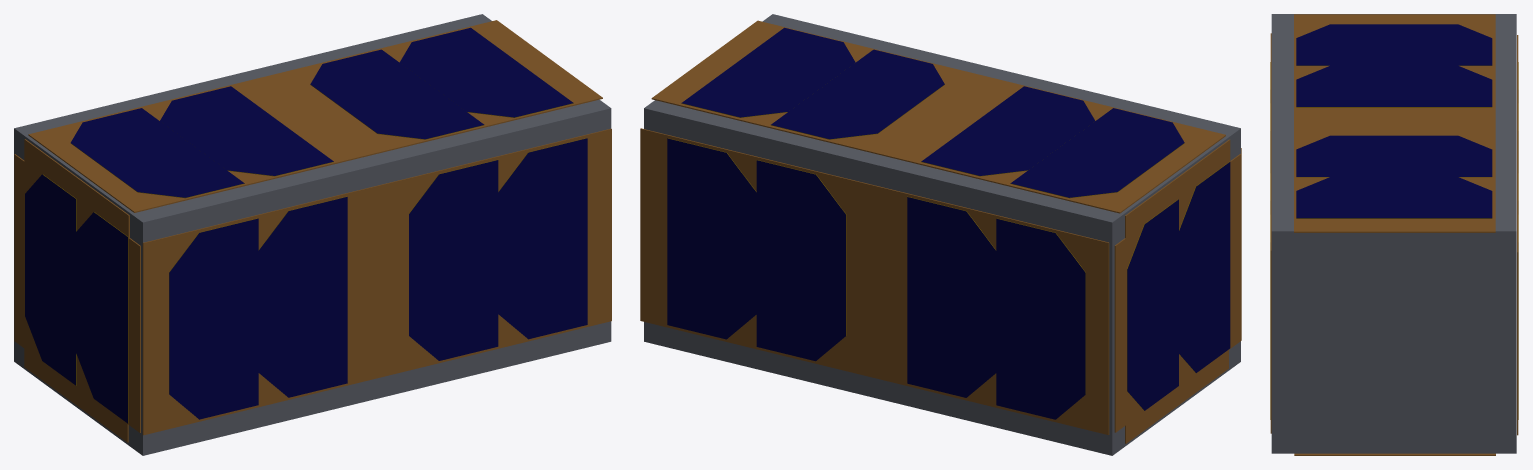
Rendered from cubesat_2u.dae.
3 views of the same model, side by side, from view 1: azimuth 30°, elevation 25°; view 2: azimuth 150°, elevation 25°; view 3: azimuth 270°, elevation 25° (orthographic). The views are drawn at different scales.
Parts seen in each view (by area): view 1: Minus-Y-Cells, Plus-Z-Cells, Cubesat_2U, Minus-Y-Panel, Minus-X-Cells, Plus-Z-Panel, Minus-X-Panel; view 2: Plus-Y-Cells, Plus-Z-Cells, Cubesat_2U, Plus-Y-Panel, Minus-X-Cells, Plus-Z-Panel, Minus-X-Panel; view 3: Cubesat_2U, Plus-Z-Cells, Plus-Z-Panel, Minus-Y-Panel, Plus-Y-Panel, Minus-Z-Panel.
Part boxes in pixels (<box>): Minus-Y-Cells: <box>169,138,587,419</box>; Plus-Z-Cells: <box>70,27,573,197</box>; Cubesat_2U: <box>14,14,611,455</box>; Minus-Y-Panel: <box>142,128,611,435</box>; Minus-X-Cells: <box>25,174,127,423</box>; Plus-Z-Panel: <box>28,20,602,212</box>; Minus-X-Panel: <box>14,139,140,442</box>; Plus-Y-Cells: <box>667,138,1085,419</box>; Plus-Z-Cells: <box>681,27,1184,197</box>; Cubesat_2U: <box>644,14,1240,455</box>; Plus-Y-Panel: <box>640,128,1109,434</box>; Minus-X-Cells: <box>1127,162,1230,410</box>; Plus-Z-Panel: <box>651,20,1225,213</box>; Minus-X-Panel: <box>1114,139,1241,443</box>; Cubesat_2U: <box>1271,14,1516,453</box>; Plus-Z-Cells: <box>1296,24,1492,218</box>; Plus-Z-Panel: <box>1294,14,1495,232</box>; Minus-Y-Panel: <box>1270,33,1271,433</box>; Plus-Y-Panel: <box>1517,35,1518,435</box>; Minus-Z-Panel: <box>1294,453,1495,455</box>.
Bounding box in the file's own units: 0.2124 × 0.1014 × 0.1014.
